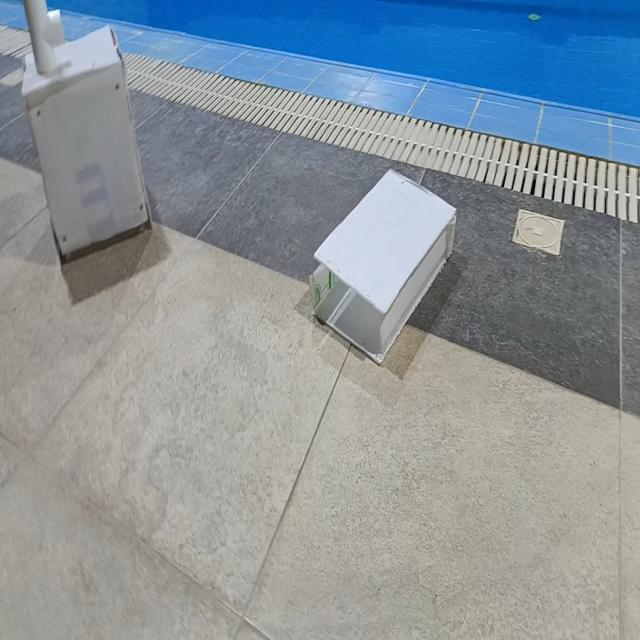Cube: (21, 11, 151, 262)
Cuboid: (309, 167, 457, 366)
